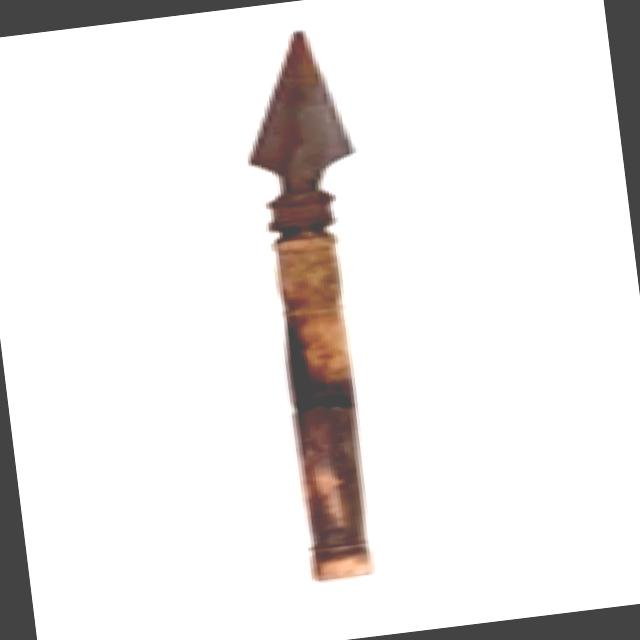spear: (182, 8, 427, 598)
